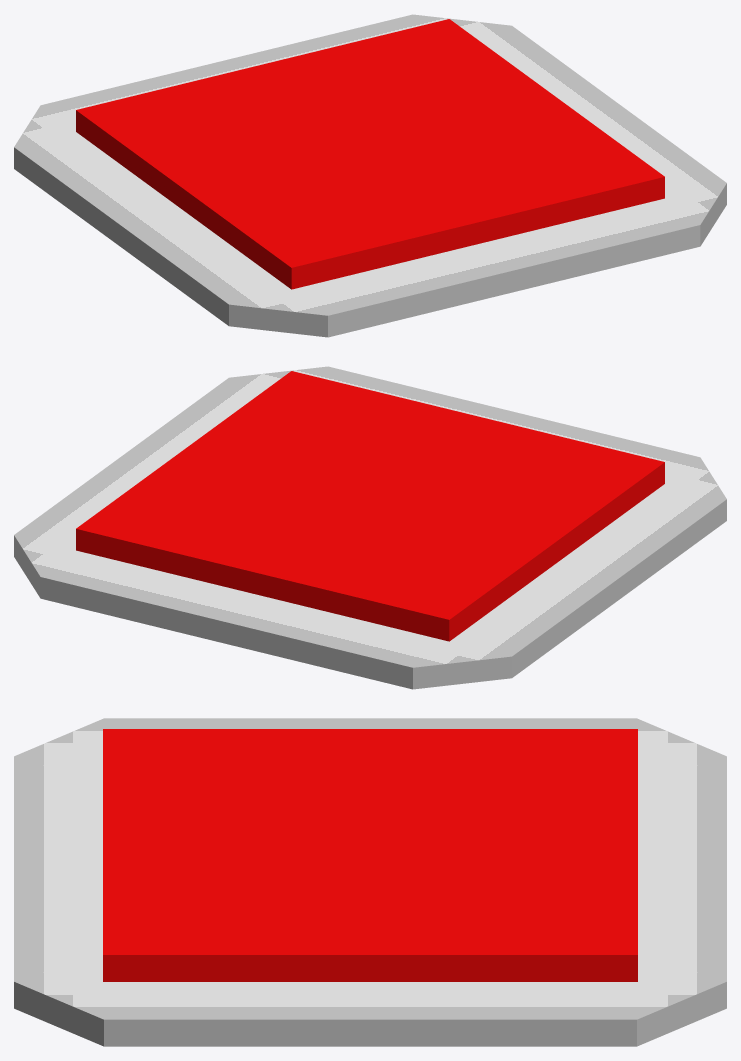
Rendered from PressurePlate.fbx.
The picture shows the model from 3 angles, top to bottom: view 1: azimuth 30°, elevation 25°; view 2: azimuth 150°, elevation 25°; view 3: azimuth 270°, elevation 25°; orthographic projection. The views are drawn at different scales.
Parts seen in each view (by area): view 1: cube, cylinder; view 2: cube, cylinder; view 3: cube, cylinder.
Part boxes in pixels (left/top/right/bottom): cube: left=76, top=19, right=664, bottom=289; cylinder: left=14, top=14, right=726, bottom=337; cube: left=76, top=371, right=664, bottom=641; cylinder: left=14, top=366, right=726, bottom=689; cube: left=103, top=729, right=637, bottom=981; cylinder: left=14, top=718, right=726, bottom=1046.
Bounding box in the file's own units: 150 × 12.5 × 150.
Materials: 1 (1 with a texture image).
